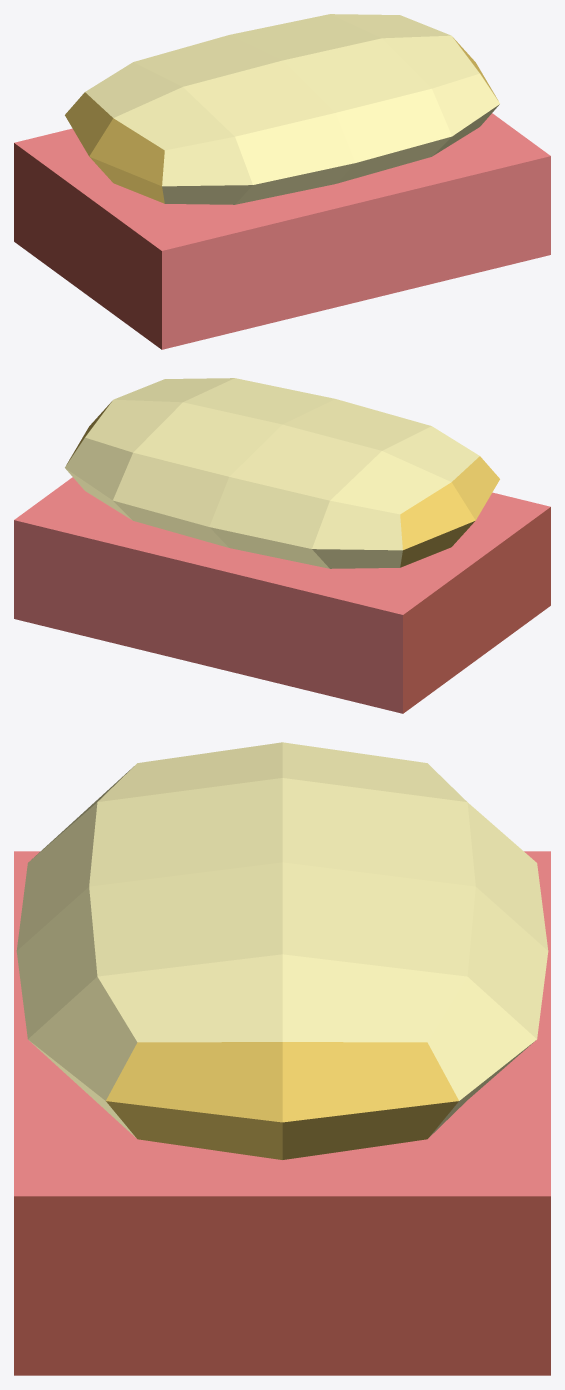
File: Soap Bar.fbx
3 renders of one model, top to bottom at view 1: azimuth 30°, elevation 25°; view 2: azimuth 150°, elevation 25°; view 3: azimuth 270°, elevation 25°, orthographic. The views are drawn at different scales.
Parts seen in each view (by area): view 1: Soap Bar; view 2: Soap Bar; view 3: Soap Bar.
Boxes of the visible parts, box(x1,y1,x2,y2) form: Soap Bar: box(14, 14, 550, 349); Soap Bar: box(14, 378, 550, 713); Soap Bar: box(14, 742, 550, 1375).
Bounding box in the file's own units: 27.1 × 12.5 × 17.84.
